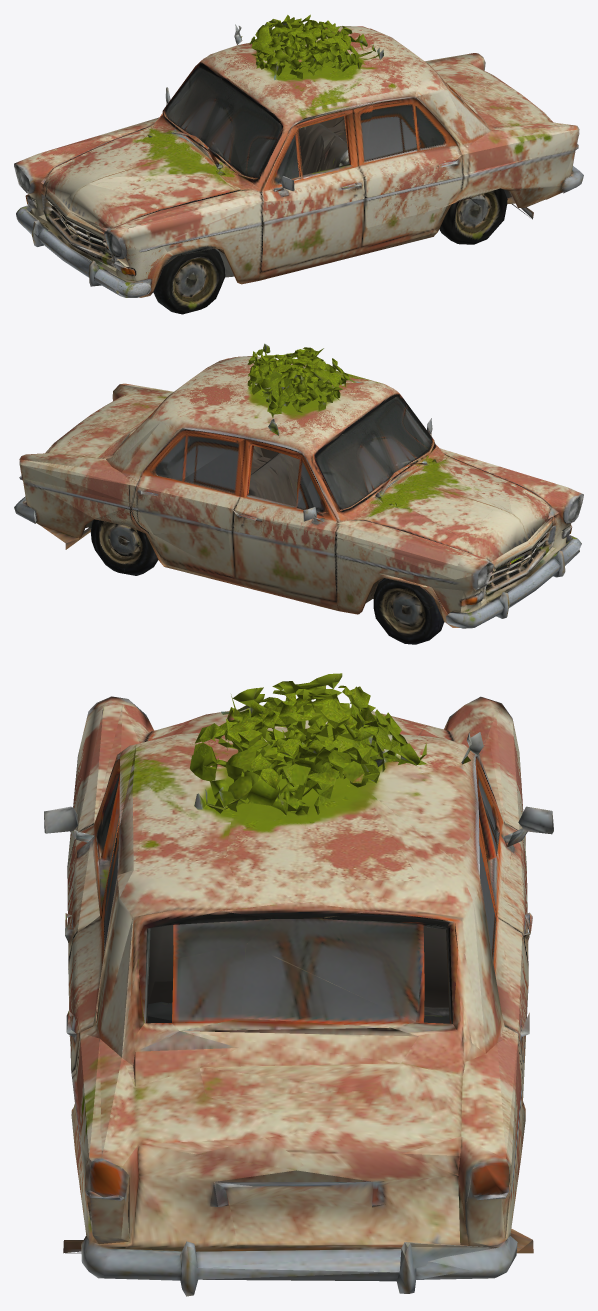
The model's file is CarWreck.fbx.
3 renders of one model, top to bottom at view 1: azimuth 30°, elevation 25°; view 2: azimuth 150°, elevation 25°; view 3: azimuth 270°, elevation 25°, orthographic. The views are drawn at different scales.
Visible parts, largest first — view 1: Mesh_0; view 2: Mesh_0; view 3: Mesh_0.
Boxes of the visible parts, x1,y1,x2,y2 form: Mesh_0: (14,14,583,314); Mesh_0: (14,343,583,644); Mesh_0: (44,673,553,1296).
Bounding box in the file's own units: 190 × 80.71 × 87.81.
Materials: 1 (1 with a texture image).
